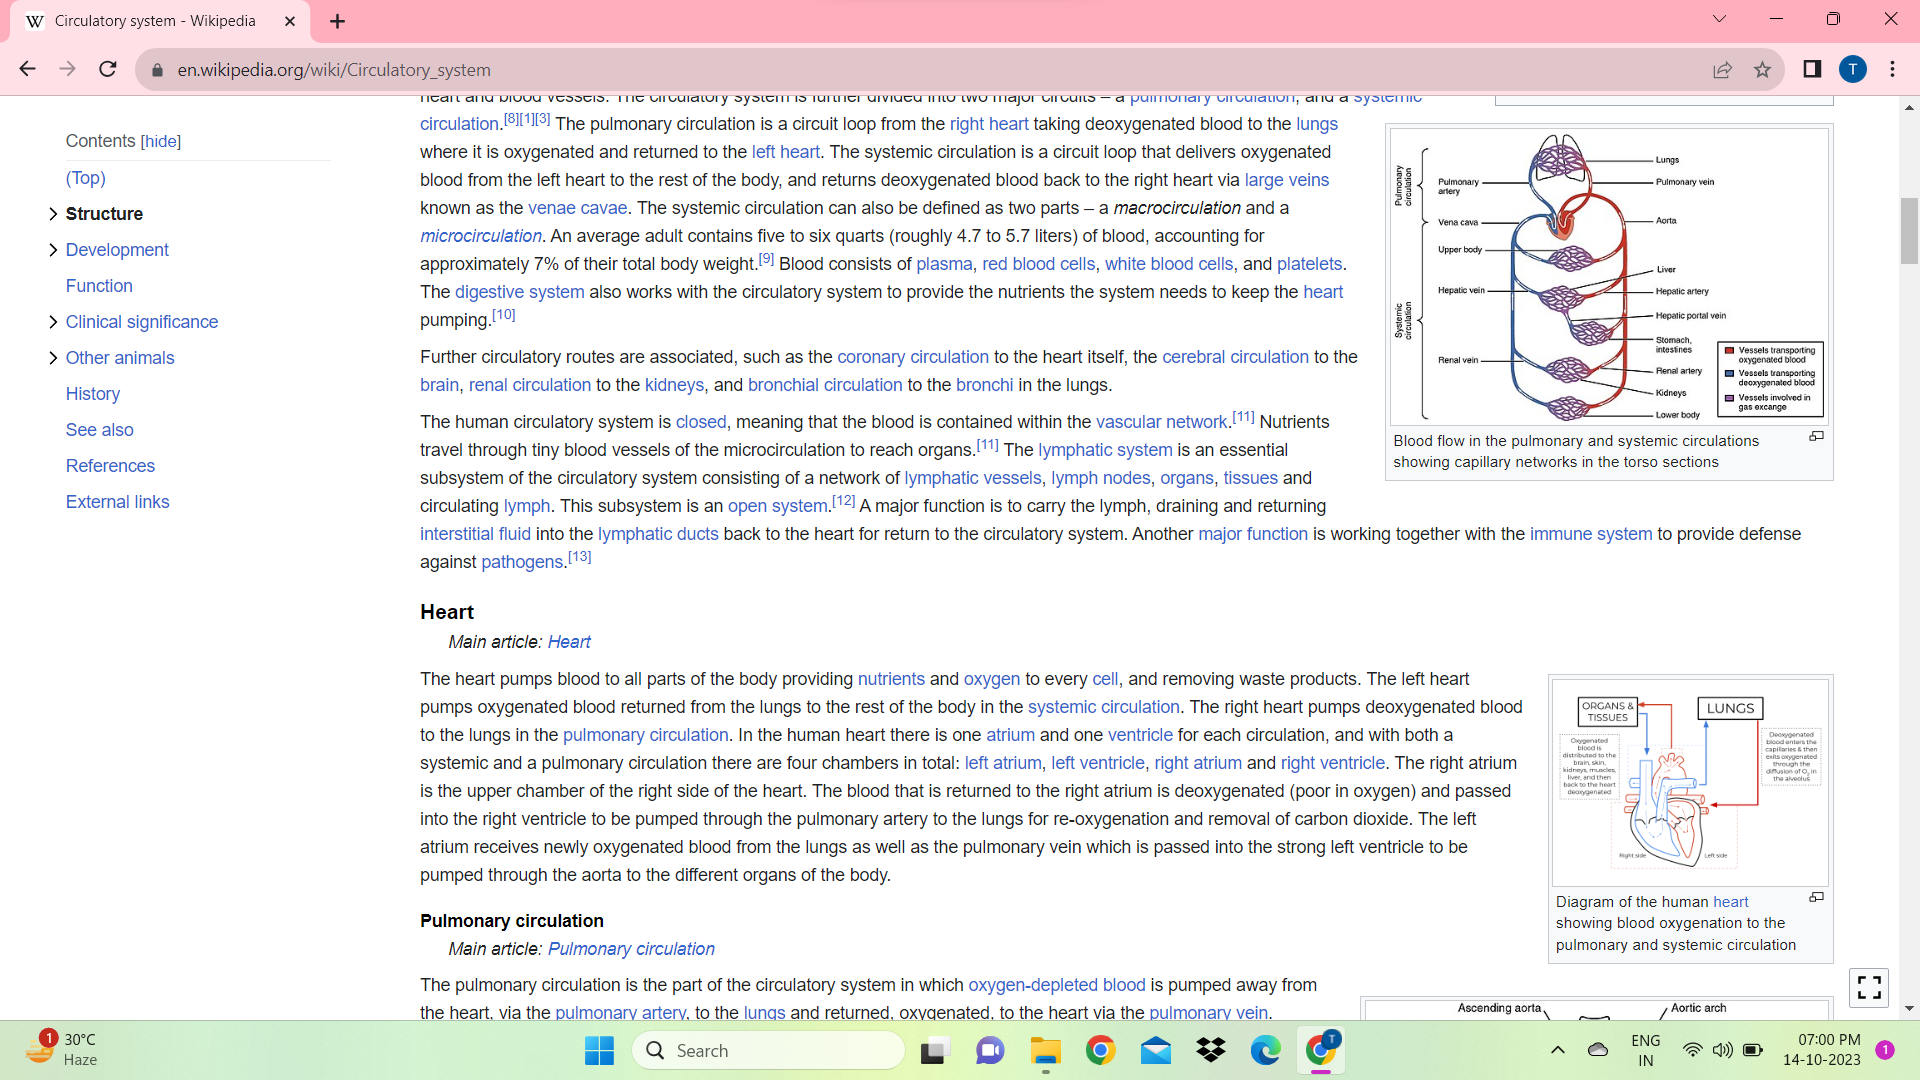Image: (1398, 134, 1836, 462), (1551, 677, 1842, 876)
Paragraph: (406, 345, 1849, 582), (408, 658, 1534, 897), (401, 110, 1387, 337), (399, 910, 1335, 1018), (1542, 880, 1838, 962), (60, 304, 237, 339), (54, 123, 196, 151), (58, 194, 162, 231), (67, 488, 170, 522), (58, 414, 147, 442), (406, 600, 498, 623)
